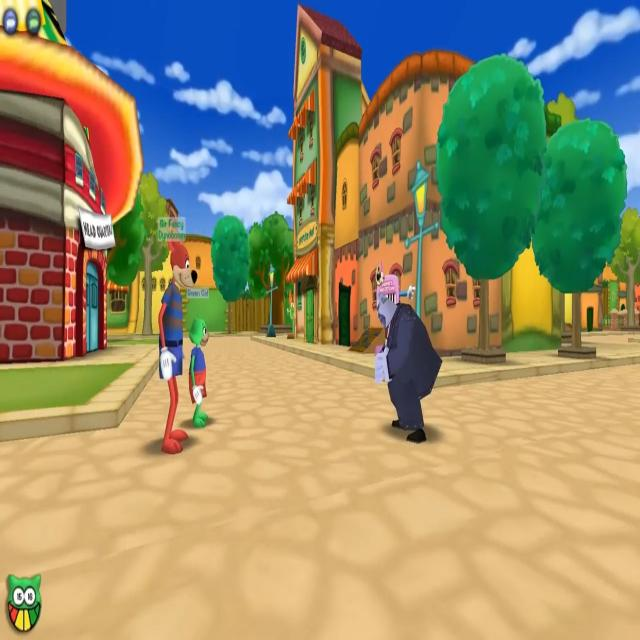bottomfeeder: (371, 249, 446, 452)
